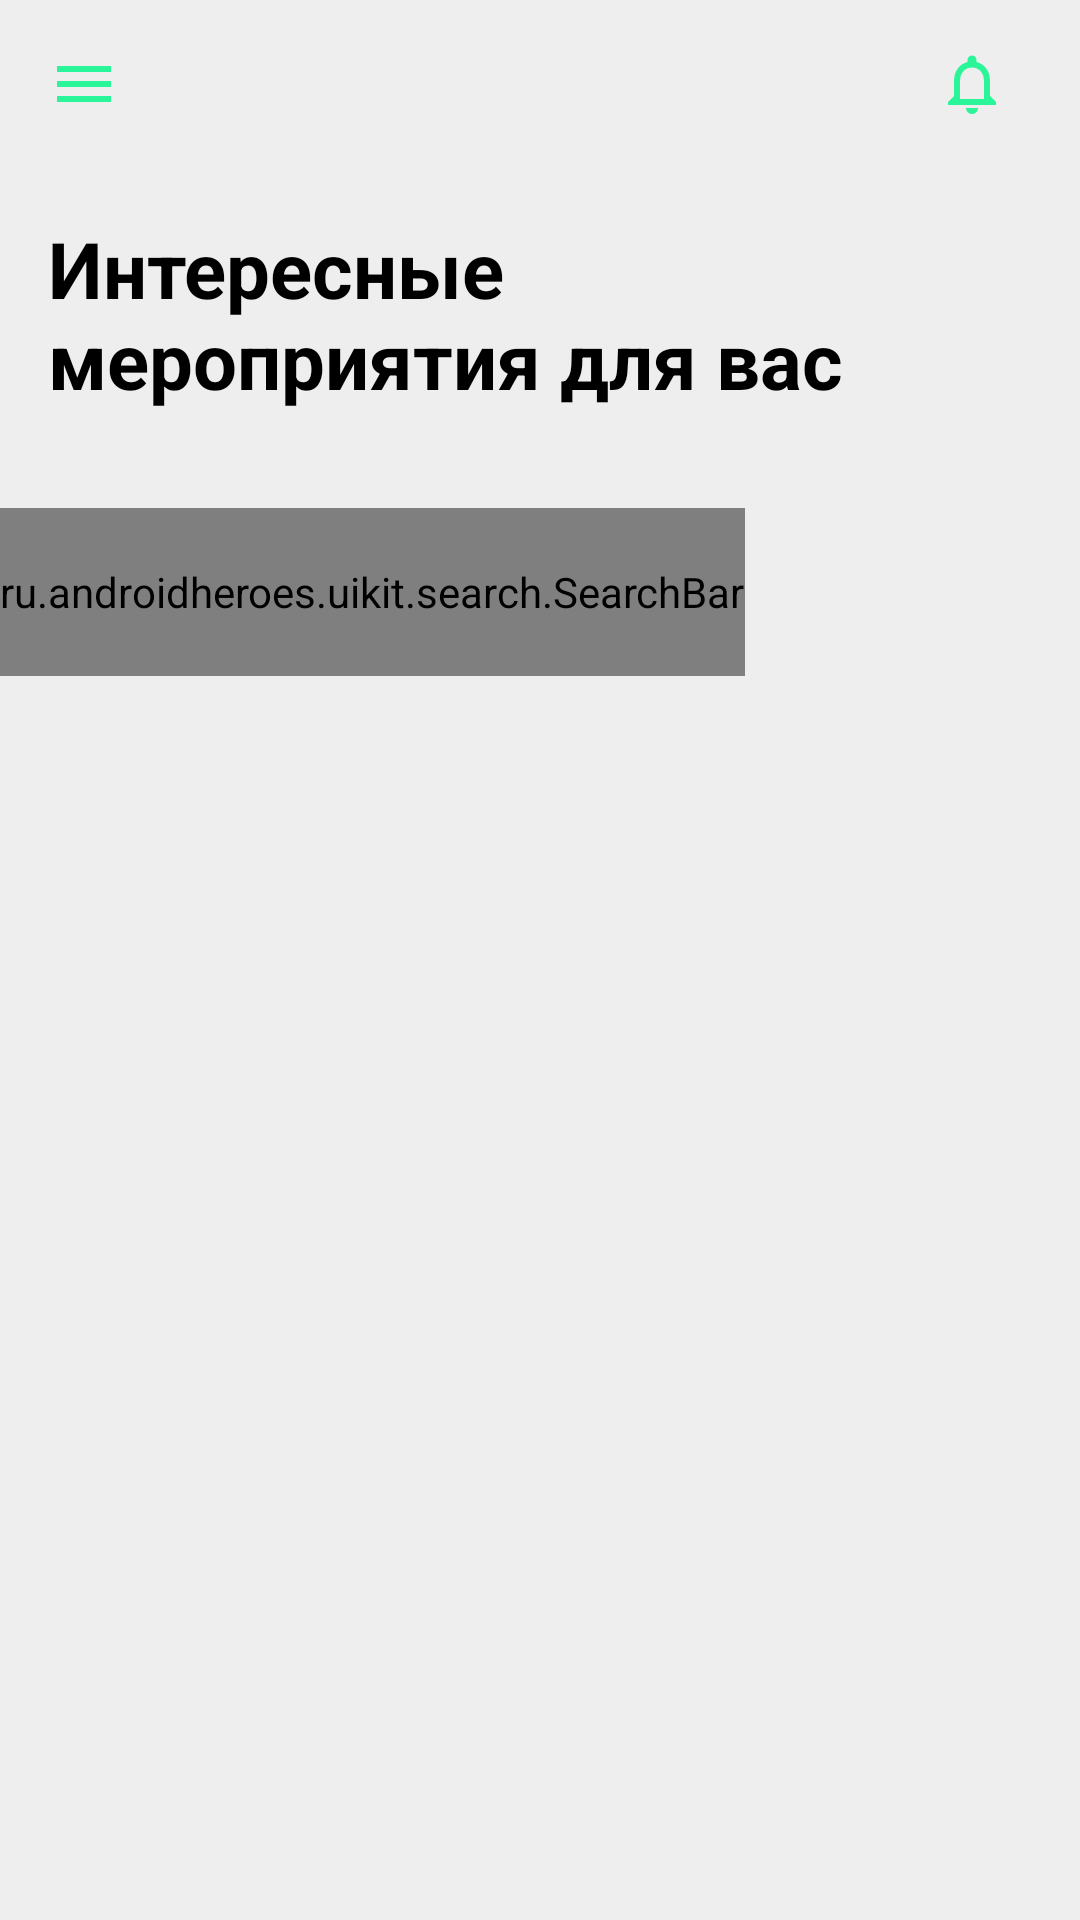

Named icons in this screenshot (1080*1920) and their bounding boxes, (x1, y1, x2, y2):
menu: (57, 66, 111, 102)
notifications: (948, 55, 996, 114)
